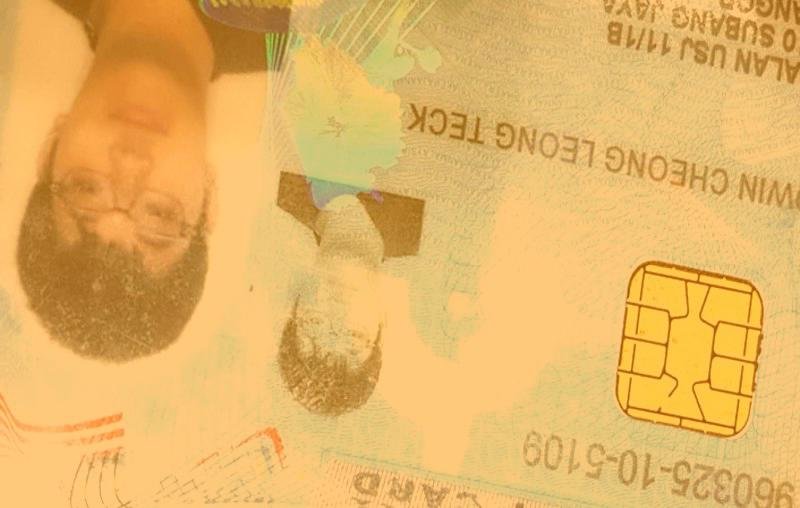hologramB: (273, 43, 401, 171)
